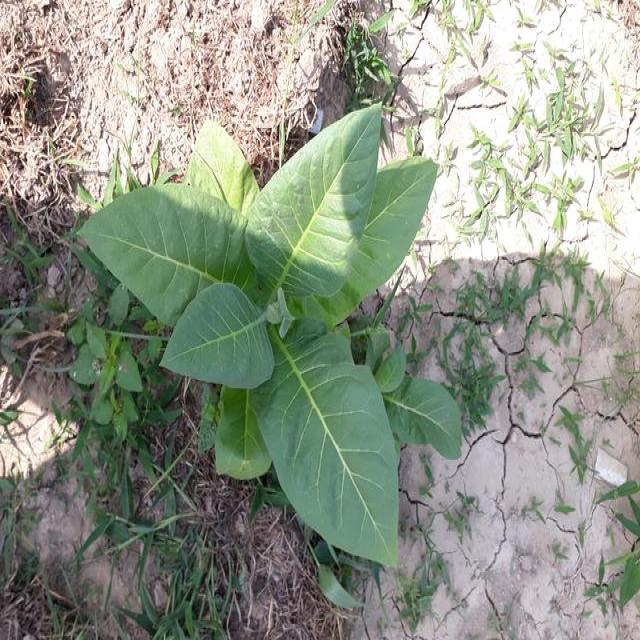crop: (92, 111, 456, 564)
